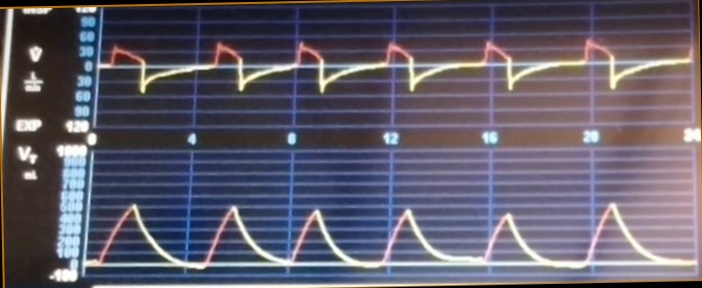Normal Flow: (104, 20, 692, 112)
Normal Volume: (90, 185, 696, 272)
